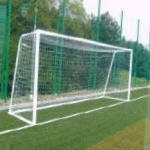goals: (8, 28, 134, 125)
